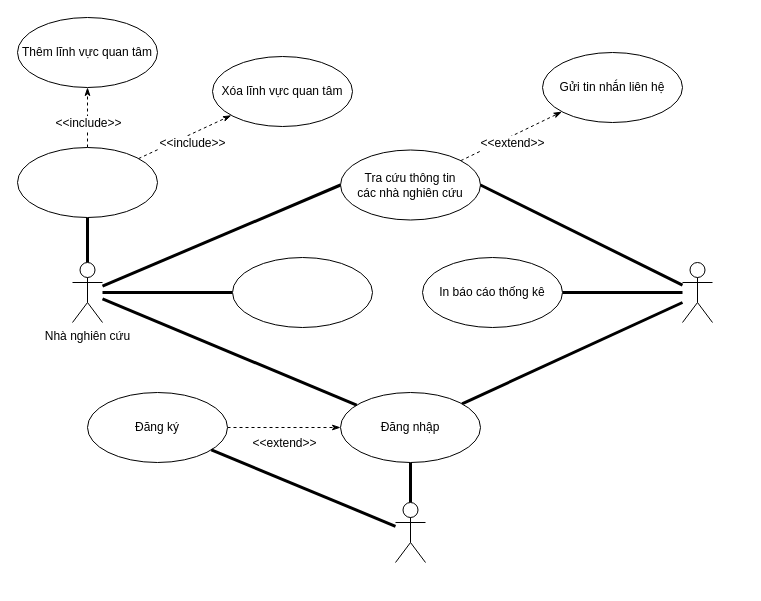
Image size: 761x601. Some labels were removed from this diagram. The centre of each missing label's shape, as x and y in pixels:
Người dùng: the point at 410,532
Quản lý danh sách lĩnh vực quan tâm: the point at 87,182
Quản lý thông tin về nơi công tác: the point at 302,292
Quản trị hệ thống: the point at 697,292
